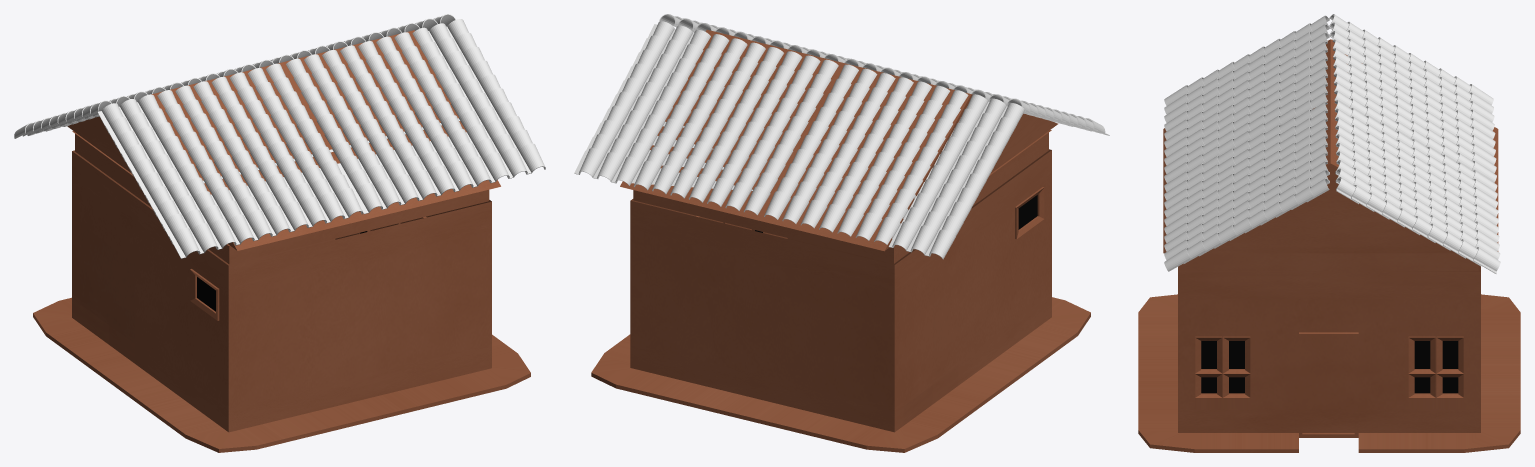
The model's file is house2.fbx.
The picture shows the model from 3 angles, left to right: view 1: azimuth 30°, elevation 25°; view 2: azimuth 150°, elevation 25°; view 3: azimuth 270°, elevation 25°; orthographic projection. The views are drawn at different scales.
Visible parts, largest first — view 1: Cube, Circle, Cube.001, Circle.001; view 2: Cube, Circle.001, Cube.001, Circle; view 3: Cube, Circle, Circle.001, Cube.001.
Boxes of the visible parts, x1,y1,x2,y2 form: Cube: [33, 131, 530, 452]; Circle: [97, 19, 545, 258]; Cube.001: [67, 30, 500, 250]; Circle.001: [14, 14, 455, 138]; Cube: [591, 130, 1090, 452]; Circle.001: [574, 21, 1024, 259]; Cube.001: [620, 29, 1058, 251]; Circle: [659, 14, 1109, 135]; Cube: [1138, 253, 1520, 452]; Circle: [1164, 15, 1329, 271]; Circle.001: [1329, 14, 1500, 273]; Cube.001: [1163, 39, 1498, 253].
Bounding box in the file's own units: 559 × 417 × 521.
Materials: 4 (2 with a texture image).
